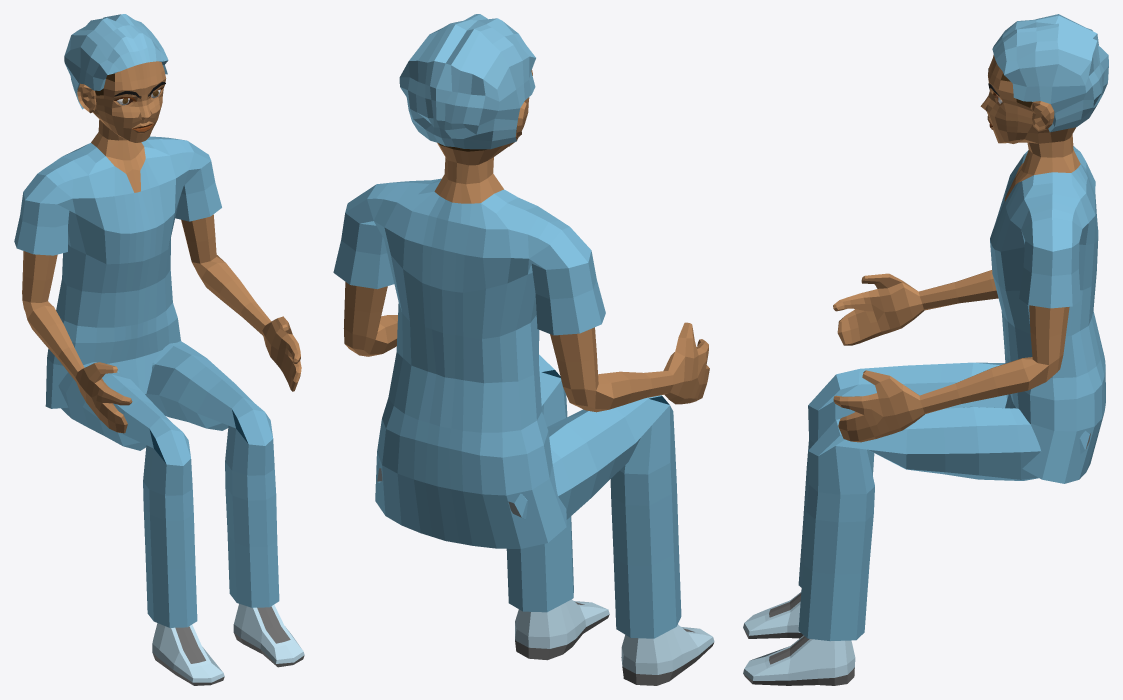
File: Doctor_Sit.fbx
The picture shows the model from 3 angles, left to right: view 1: azimuth 30°, elevation 25°; view 2: azimuth 150°, elevation 25°; view 3: azimuth 270°, elevation 25°; orthographic projection. The views are drawn at different scales.
Parts seen in each view (by area): view 1: Doctor_Sit; view 2: Doctor_Sit; view 3: Doctor_Sit.
Part boxes in pixels (x1,y1,x2,y2): Doctor_Sit: (14, 14, 304, 685); Doctor_Sit: (333, 14, 714, 685); Doctor_Sit: (743, 14, 1108, 685).
Size of the model in its own units: 0.3141 by 0.8269 by 0.432.
